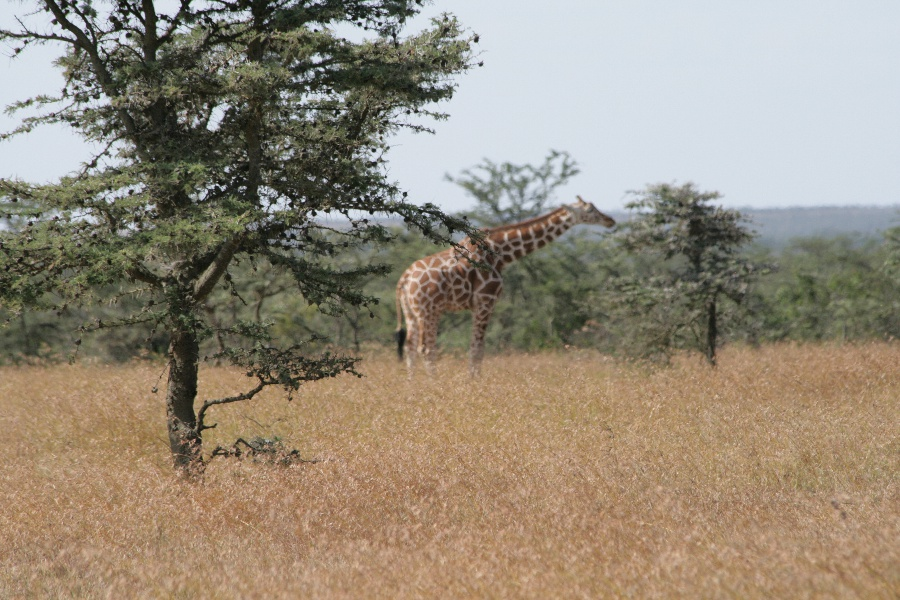giraffe: (387, 191, 623, 390)
